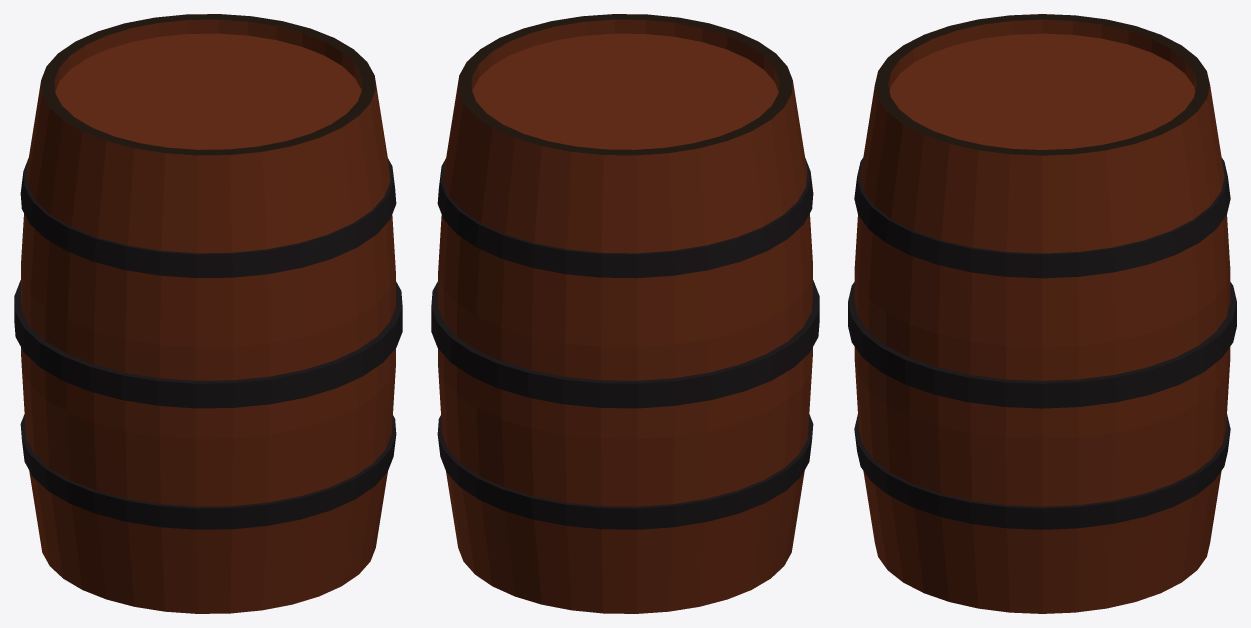
File: Barrel.obj
The picture shows the model from 3 angles, left to right: view 1: azimuth 30°, elevation 25°; view 2: azimuth 150°, elevation 25°; view 3: azimuth 270°, elevation 25°; orthographic projection.
Visible parts, largest first — view 1: Barrel_Cylinder; view 2: Barrel_Cylinder; view 3: Barrel_Cylinder.
Boxes of the visible parts, box(x1,y1,x2,y2) form: Barrel_Cylinder: box(14, 14, 402, 613); Barrel_Cylinder: box(431, 14, 819, 613); Barrel_Cylinder: box(848, 14, 1236, 613).
Bounding box in the file's own units: 1 × 1.3 × 1.
